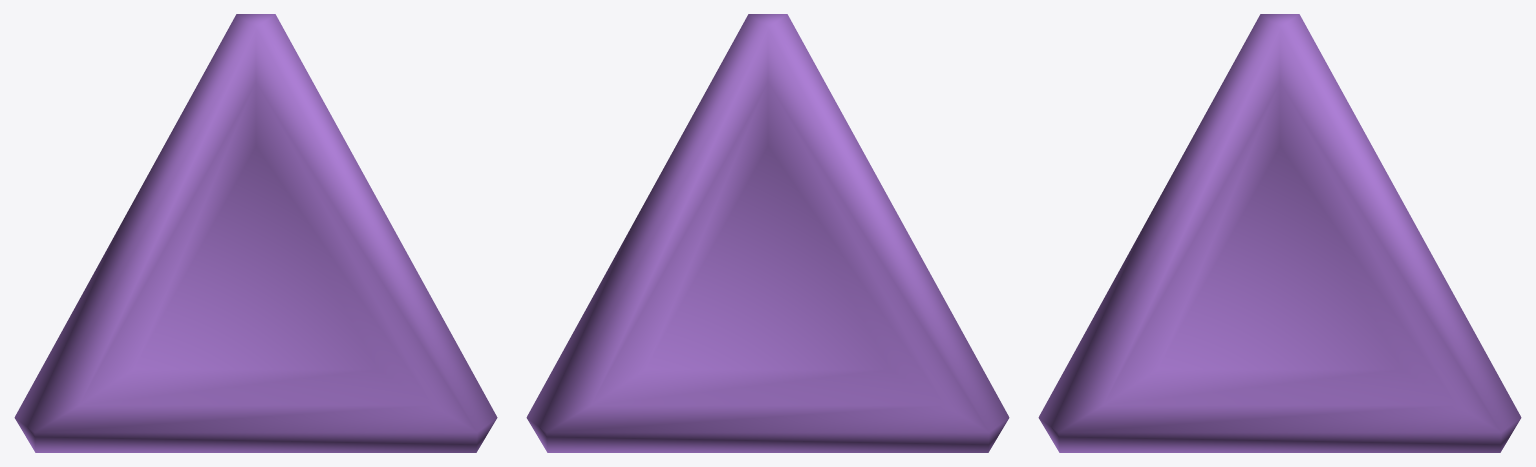
Rendered from roadcone.fbx.
The picture shows the model from 3 angles, left to right: view 1: azimuth 30°, elevation 25°; view 2: azimuth 150°, elevation 25°; view 3: azimuth 270°, elevation 25°; orthographic projection.
Parts seen in each view (by area): view 1: L6 base cone; view 2: L6 base cone; view 3: L6 base cone.
Part boxes in pixels (<box>): L6 base cone: <box>14,14,497,452</box>; L6 base cone: <box>526,14,1009,452</box>; L6 base cone: <box>1038,14,1521,452</box>.
Bounding box in the file's own units: 3157 × 3167 × 3645.
